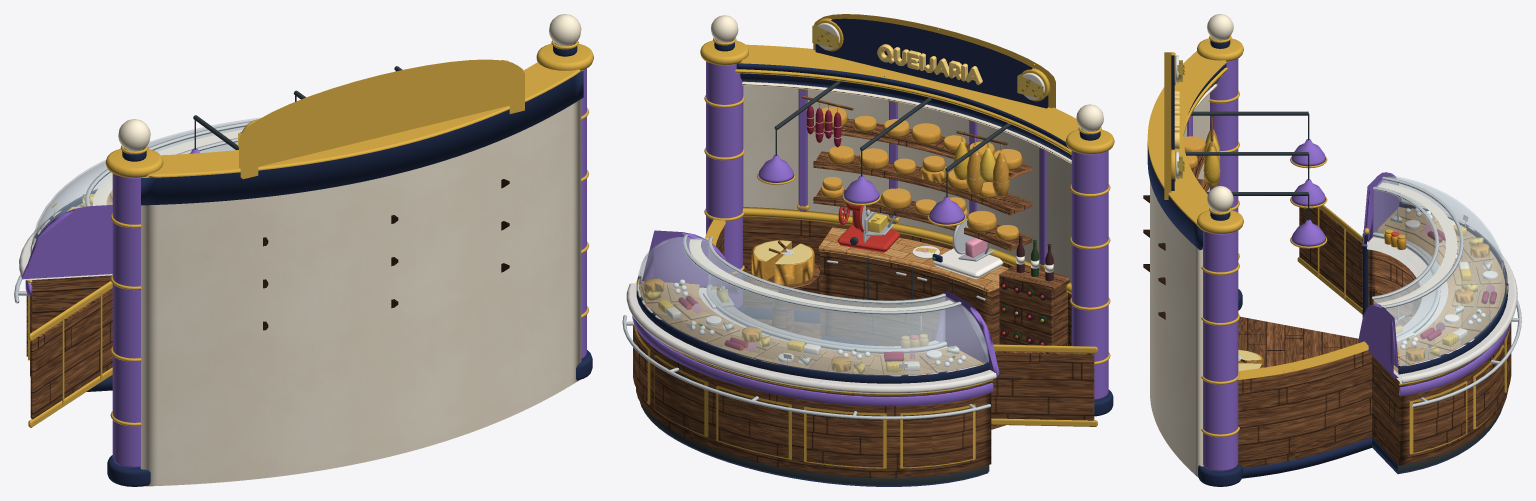
Rendered from sector-queijaria.fbx.
The picture shows the model from 3 angles, left to right: view 1: azimuth 30°, elevation 25°; view 2: azimuth 150°, elevation 25°; view 3: azimuth 270°, elevation 25°; orthographic projection. The views are drawn at different scales.
Parts seen in each view (by area): view 1: Body; view 2: Body, Anim Fill 0, Anim Fill 1, Anim Fill 2, Anim Fill 3; view 3: Body, Anim Fill 1, Anim Fill 0, Anim Fill 2, Anim Fill 3.
Boxes of the visible parts, box(x1,y1,x2,y2) form: Body: box(14, 14, 593, 486); Body: box(622, 14, 1114, 486); Anim Fill 0: box(640, 278, 710, 324); Anim Fill 1: box(679, 316, 779, 357); Anim Fill 2: box(772, 340, 874, 374); Anim Fill 3: box(880, 345, 972, 374); Body: box(1143, 14, 1521, 486); Anim Fill 1: box(1440, 283, 1502, 331); Anim Fill 0: box(1397, 322, 1473, 364); Anim Fill 2: box(1438, 237, 1503, 285); Anim Fill 3: box(1385, 208, 1473, 247).
Bounding box in the file's own units: 4.33 × 3 × 3.39.
